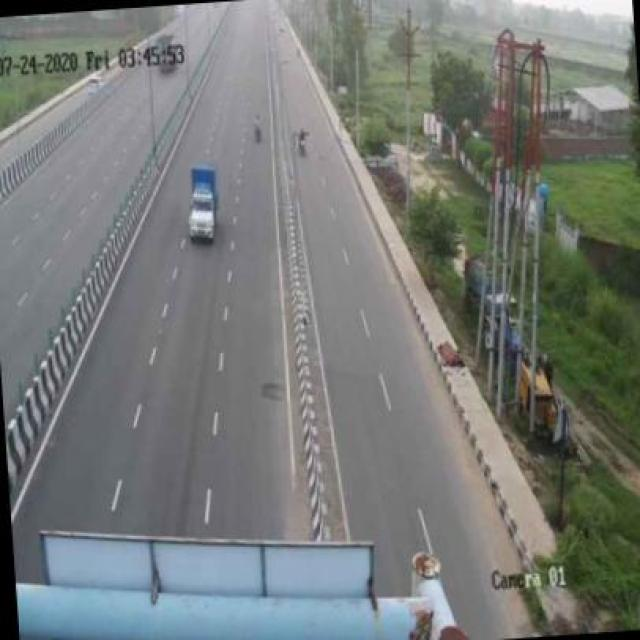car: (182, 153, 234, 244)
